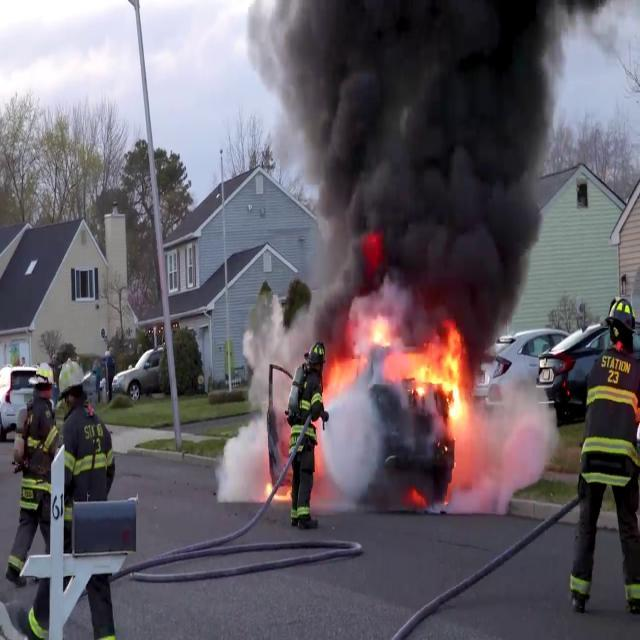Fire: (392, 322, 472, 425)
Smoke: (276, 0, 566, 352), (236, 294, 311, 486)
